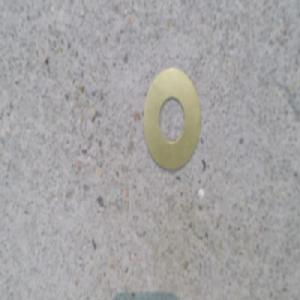Washer: (142, 66, 202, 175)
